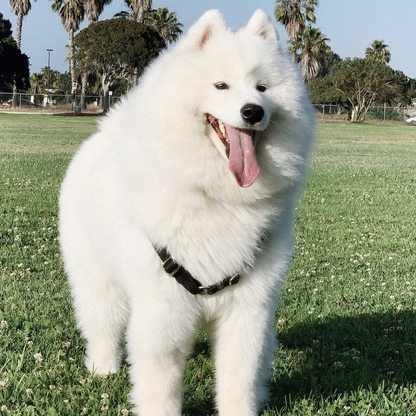samoyed: (46, 4, 323, 416)
